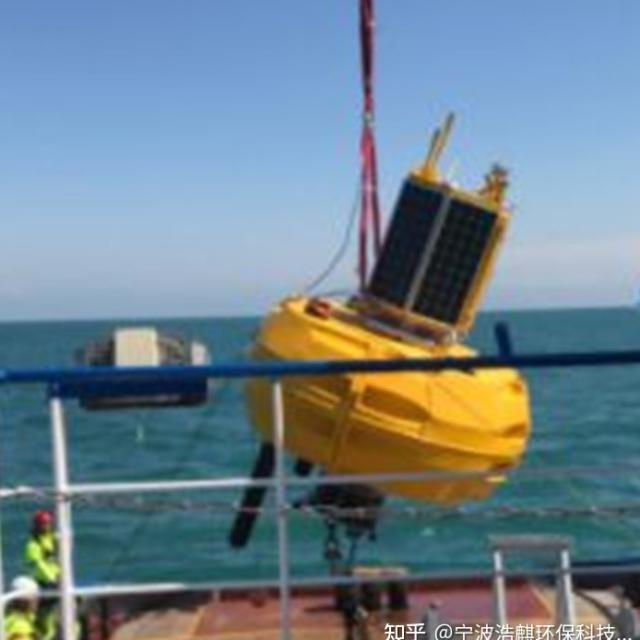buoy: (244, 129, 538, 497)
